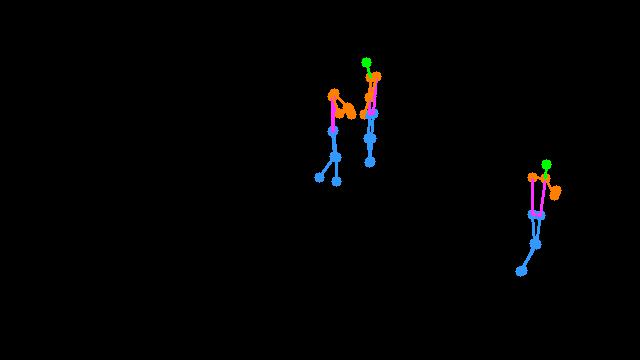normal: (309, 34, 401, 200)
